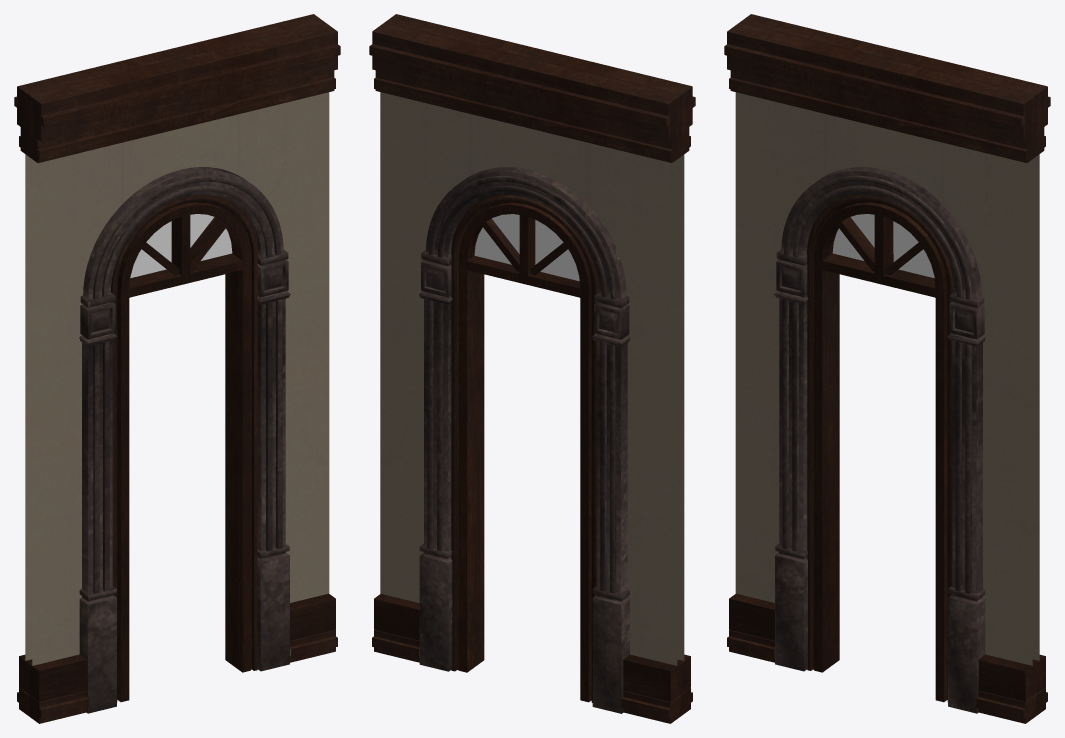
File: SK3 DOOR1 INTERIOR.fbx
3 renders of one model, left to right at view 1: azimuth 30°, elevation 25°; view 2: azimuth 150°, elevation 25°; view 3: azimuth 330°, elevation 25°, orthographic.
Visible parts, largest first — view 1: SK3 DOOR1 INTERIOR; view 2: SK3 DOOR1 INTERIOR; view 3: SK3 DOOR1 INTERIOR.
Boxes of the visible parts, x1,y1,x2,y2 form: SK3 DOOR1 INTERIOR: (14,14,340,723); SK3 DOOR1 INTERIOR: (369,14,695,723); SK3 DOOR1 INTERIOR: (724,14,1050,723).
Size of the model in its own units: 200 by 401 by 34.28.
